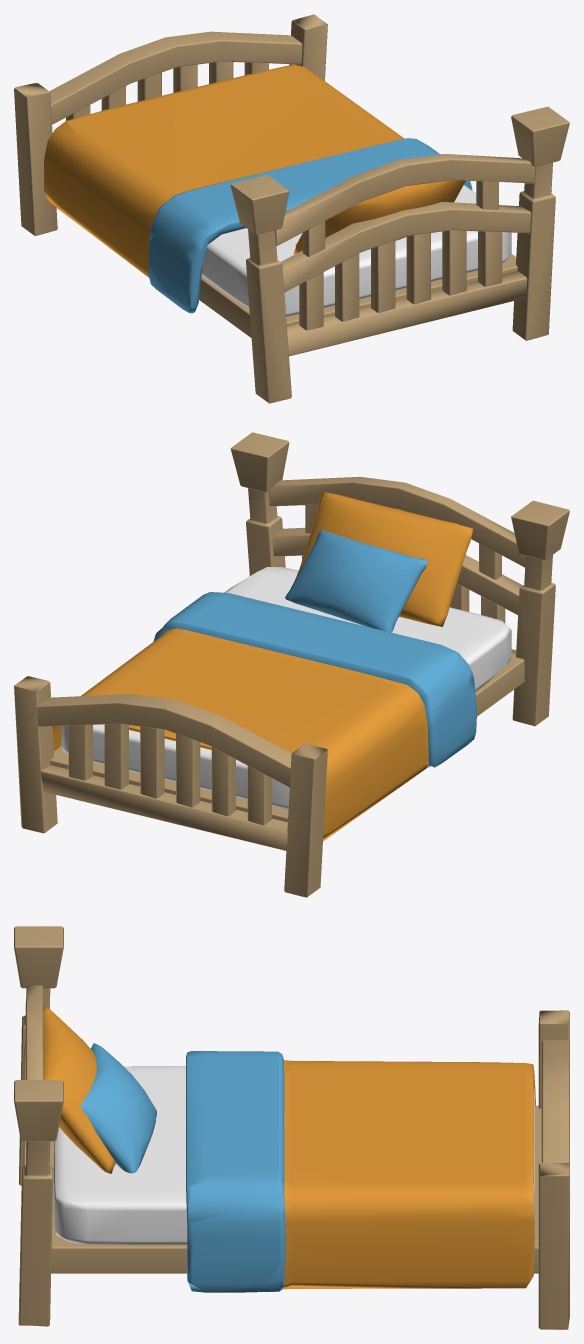
Rendered from Bed_LOD1.fbx.
3 renders of one model, top to bottom at view 1: azimuth 30°, elevation 25°; view 2: azimuth 150°, elevation 25°; view 3: azimuth 270°, elevation 25°, orthographic. The views are drawn at different scales.
Parts seen in each view (by area): view 1: Bed_frame_003; view 2: Bed_frame_003; view 3: Bed_frame_003.
Boxes of the visible parts, box(x1,y1,x2,y2) form: Bed_frame_003: box(14, 14, 569, 403); Bed_frame_003: box(14, 432, 569, 897); Bed_frame_003: box(14, 926, 569, 1329).
Size of the model in its own units: 368 by 234 by 495.
